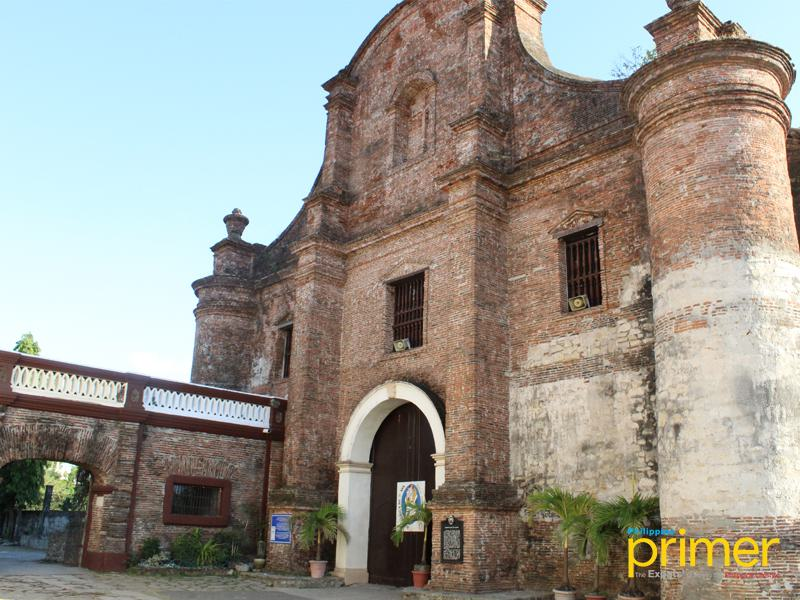Sta. Maria Church: (188, 1, 798, 600)
Unfinished Paint: (509, 314, 800, 524)
